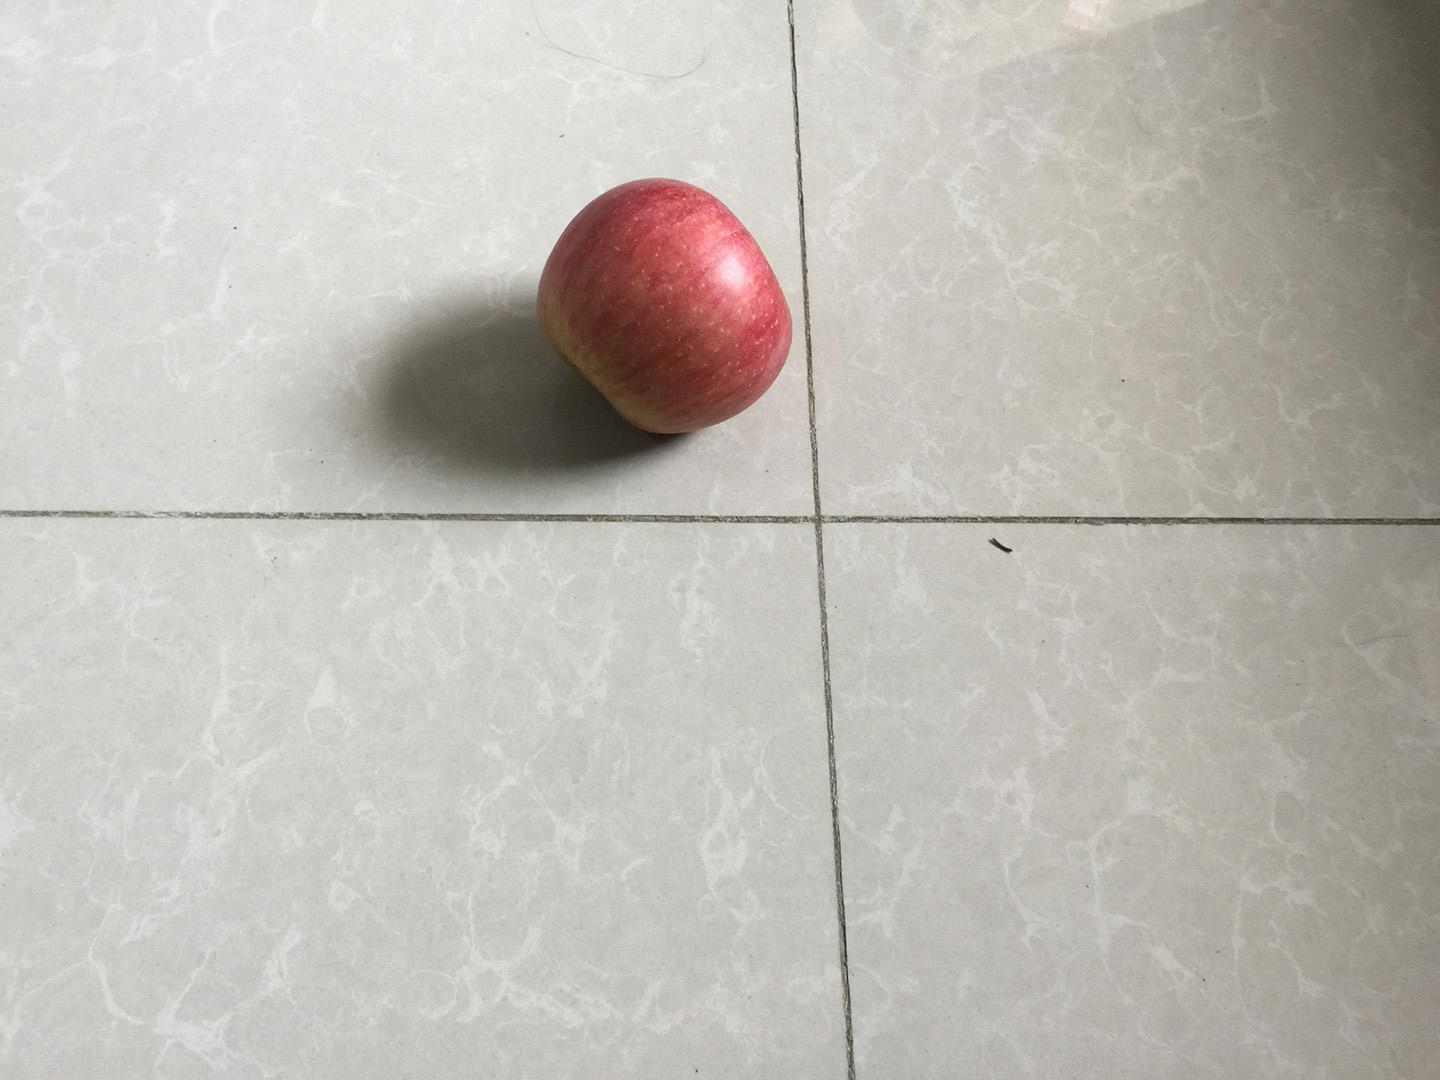apple: (531, 175, 802, 439)
